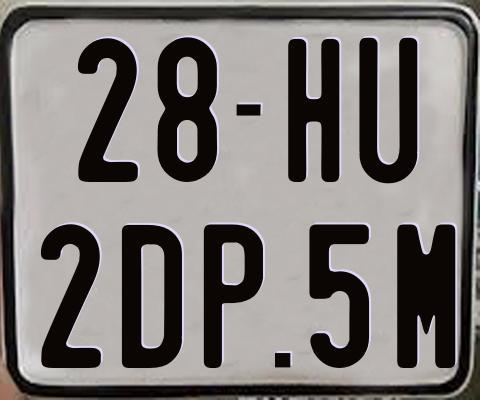2: (39, 222, 105, 372), (78, 37, 141, 183)
5: (308, 221, 371, 367)
8: (155, 37, 215, 185)
D: (120, 222, 181, 371)
H: (286, 36, 343, 181)
M: (396, 223, 455, 369)
P: (201, 221, 263, 370)
U: (359, 36, 423, 186)
